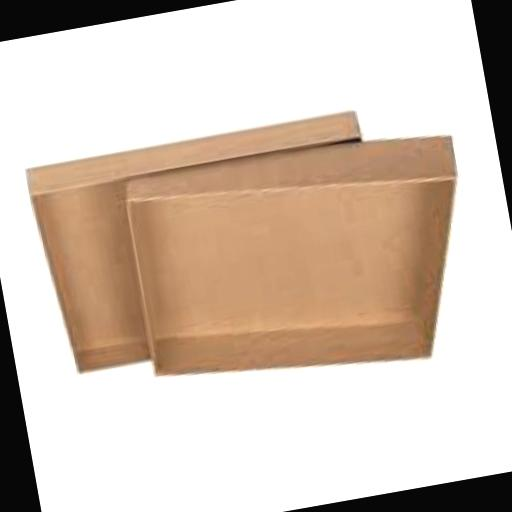cardboard: (116, 128, 488, 409), (22, 111, 391, 380)
